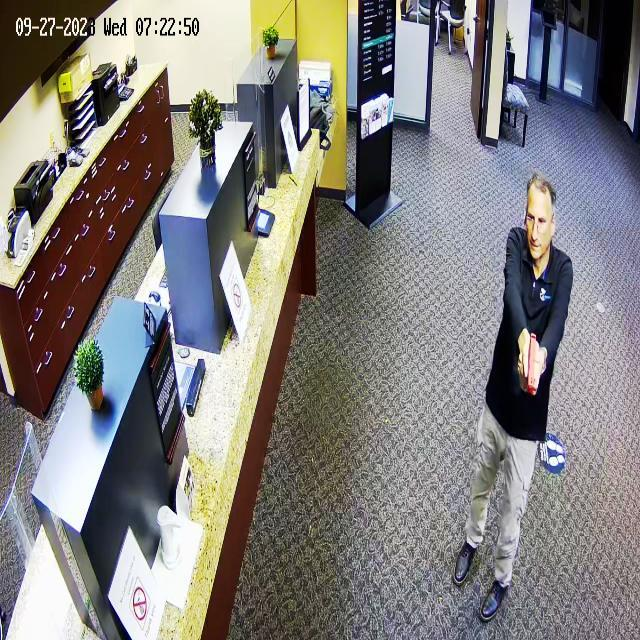Gun: (514, 330, 548, 403)
